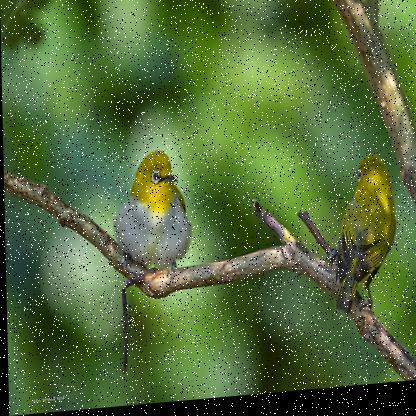Burung: (111, 150, 192, 292)
